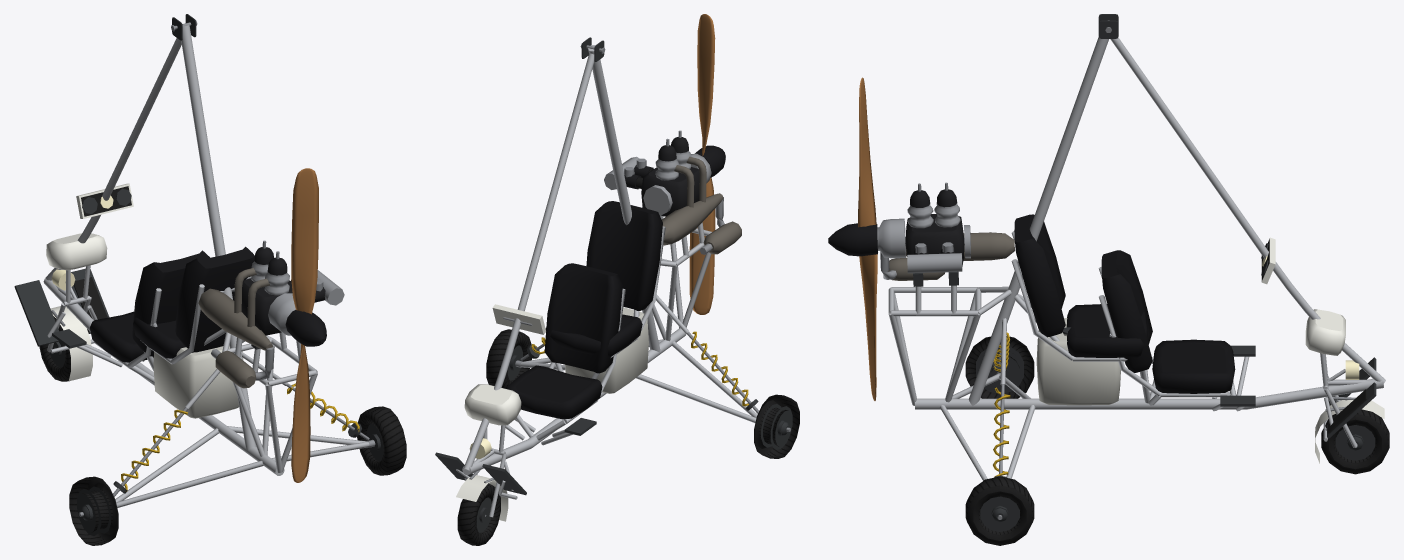
Rendered from trike.glb.
The picture shows the model from 3 angles, left to right: view 1: azimuth 30°, elevation 25°; view 2: azimuth 150°, elevation 25°; view 3: azimuth 270°, elevation 25°; orthographic projection. The views are drawn at different scales.
Parts seen in each view (by area): view 1: Trike_LOD0, Engine_LOD0, Prop_LOD0; view 2: Trike_LOD0, Engine_LOD0, Prop_LOD0; view 3: Trike_LOD0, Engine_LOD0, Prop_LOD0.
Part boxes in pixels (x1,y1,x2,y2): Trike_LOD0: (14,14,406,545); Engine_LOD0: (198,240,344,388); Prop_LOD0: (285,168,326,482); Trike_LOD0: (435,37,799,545); Engine_LOD0: (604,130,741,254); Prop_LOD0: (689,14,725,314); Trike_LOD0: (888,14,1389,545); Engine_LOD0: (877,182,1014,286); Prop_LOD0: (828,77,877,400).
Size of what is drawn, in the model's own units: 1.87 by 2.54 by 2.84.
7 materials, 1 textured.
